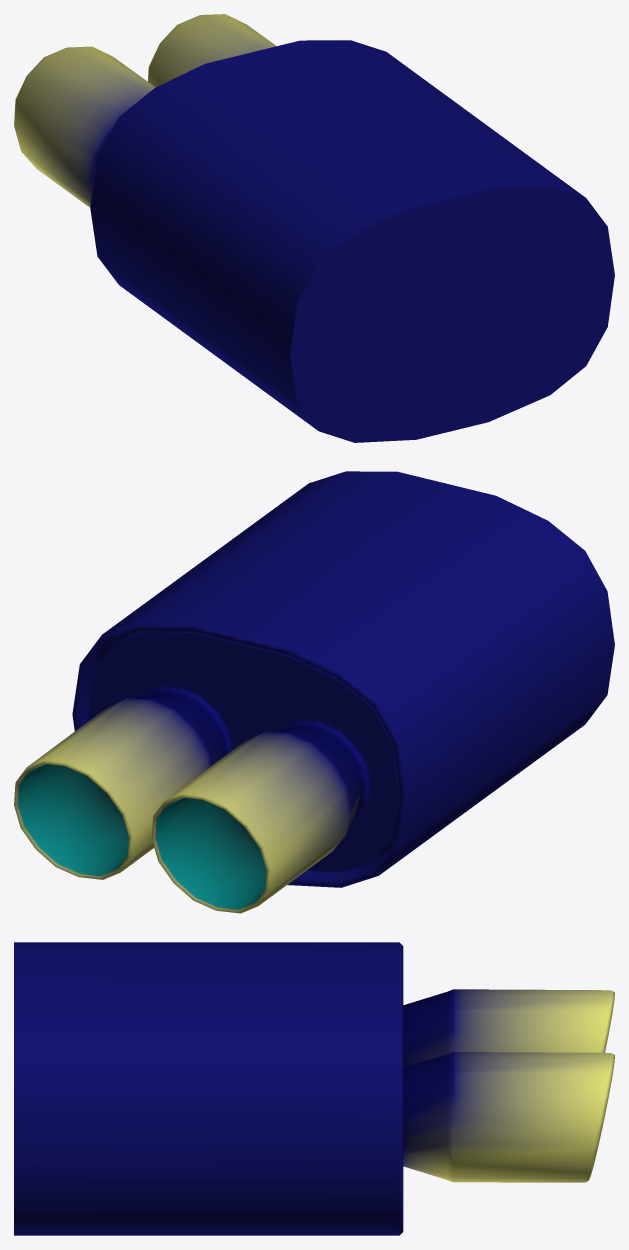
Rendered from Car_Nissan_SkylineGTRVspecR34_1999_Exhausts_SetA.fbx.
The picture shows the model from 3 angles, top to bottom: view 1: azimuth 30°, elevation 25°; view 2: azimuth 150°, elevation 25°; view 3: azimuth 270°, elevation 25°; orthographic projection. The views are drawn at different scales.
Visible parts, largest first — view 1: Exhausts 6; view 2: Exhausts 6; view 3: Exhausts 6.
Boxes of the visible parts, <box> form: Exhausts 6: <box>14,14,614,442</box>; Exhausts 6: <box>14,471,614,913</box>; Exhausts 6: <box>14,942,614,1235</box>.
Bounding box in the file's own units: 0.2725 × 0.1864 × 0.4527.
